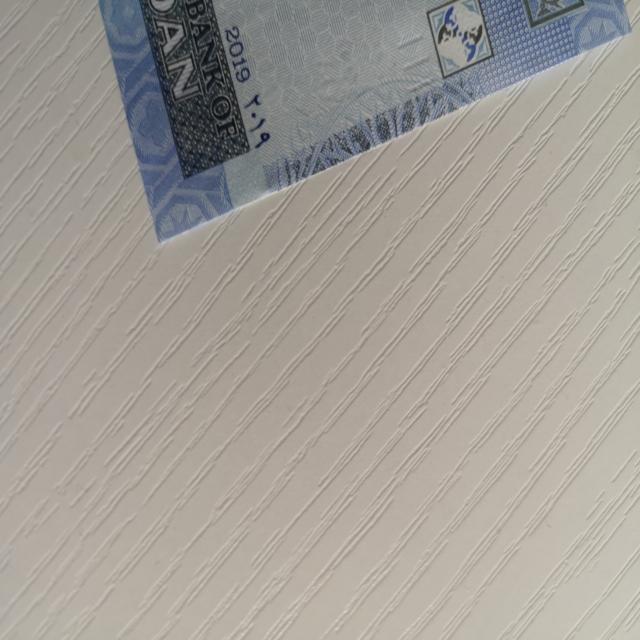10-dinar: (99, 0, 635, 244)
